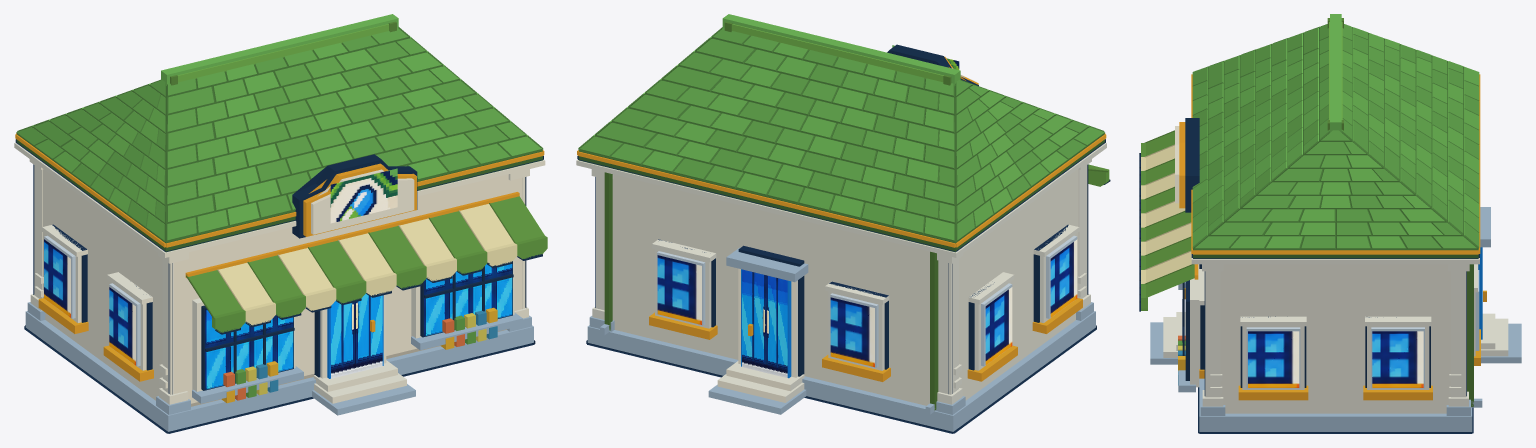
3 renders of one model, left to right at view 1: azimuth 30°, elevation 25°; view 2: azimuth 150°, elevation 25°; view 3: azimuth 270°, elevation 25°, orthographic. The views are drawn at different scales.
Visible parts, largest first — view 1: B14 药房; view 2: B14 药房; view 3: B14 药房.
Boxes of the visible parts, x1,y1,x2,y2 form: B14 药房: (14,14,547,433); B14 药房: (576,14,1110,433); B14 药房: (1139,14,1521,433).
Size of the model in its own units: 7.39 by 5.41 by 6.7.
Materials: 2 (1 with a texture image).
